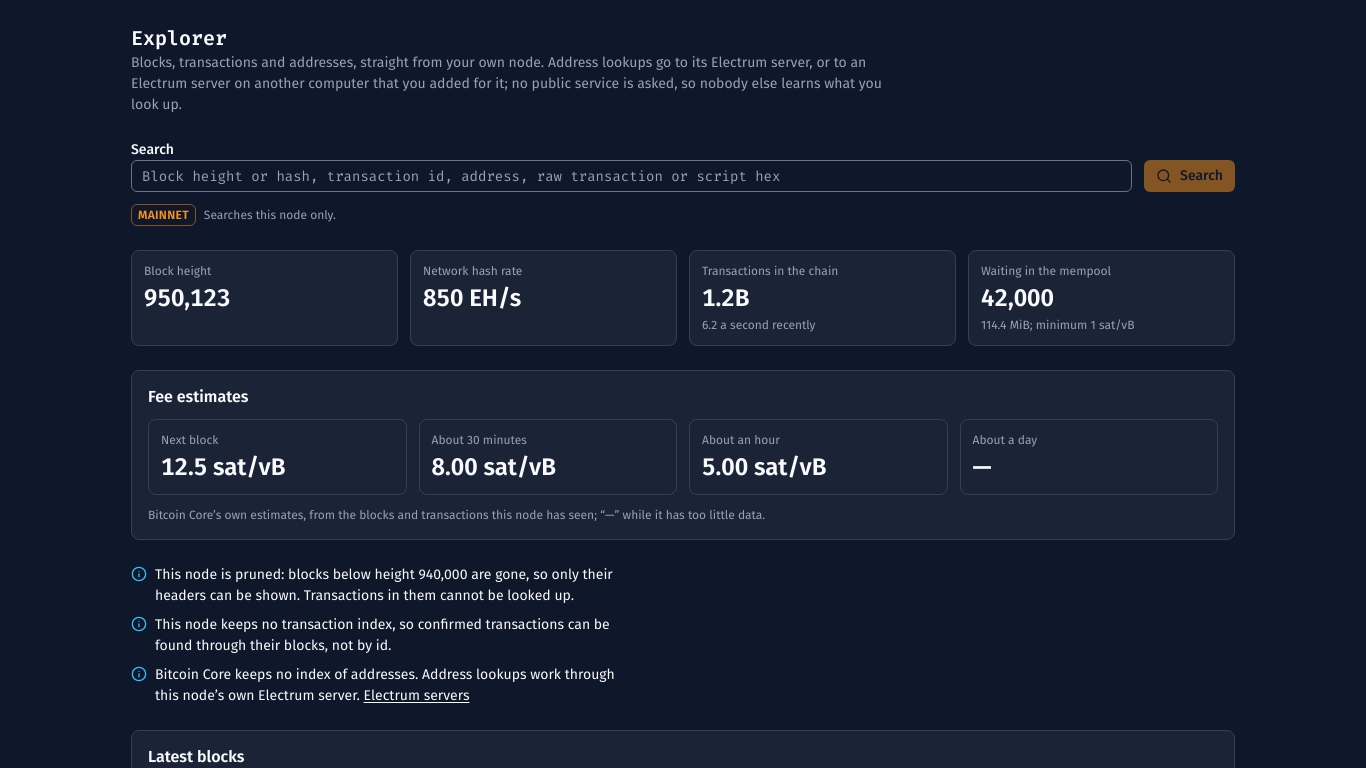
Test case: Explorer › explains what can be searched for when nothing is found
The width and height of the screenshot is (1366, 768).
Step 1. Type "5000" into the field labelled "Search" → [632, 176], box [131,160,1132,192]
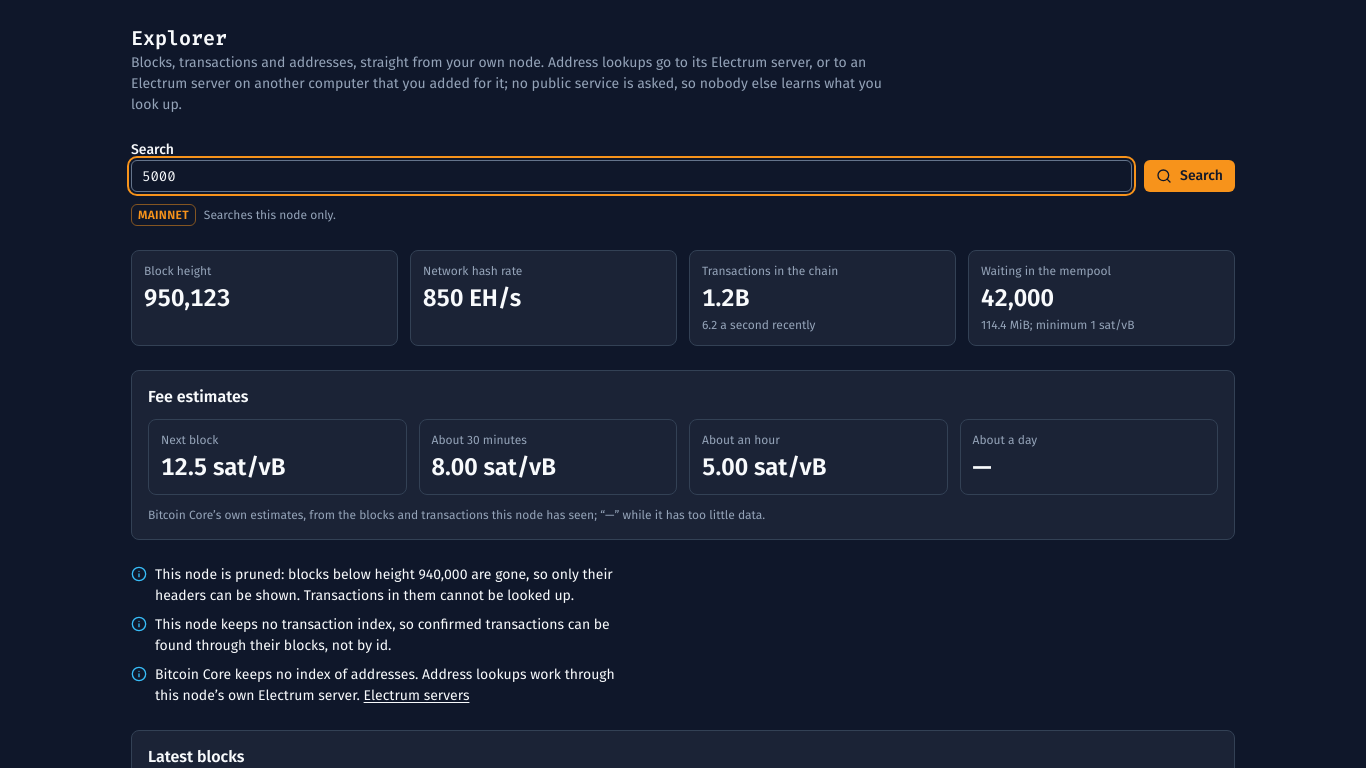
Step 2. Click the button "Search" → [1190, 176], box [1144,160,1235,192]
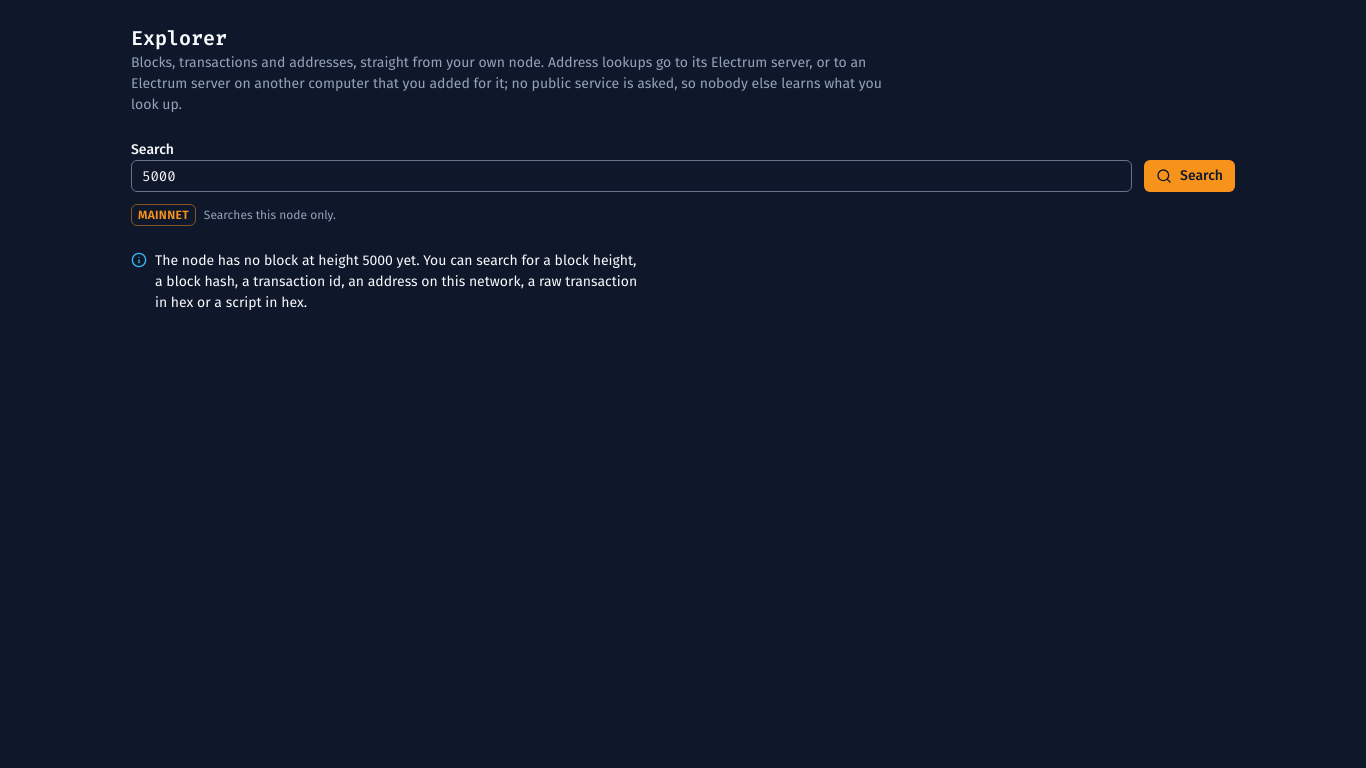
Expected: the text "no block at height 5000 yet. You can search for a block height" is shown, [155,250,639,313]
